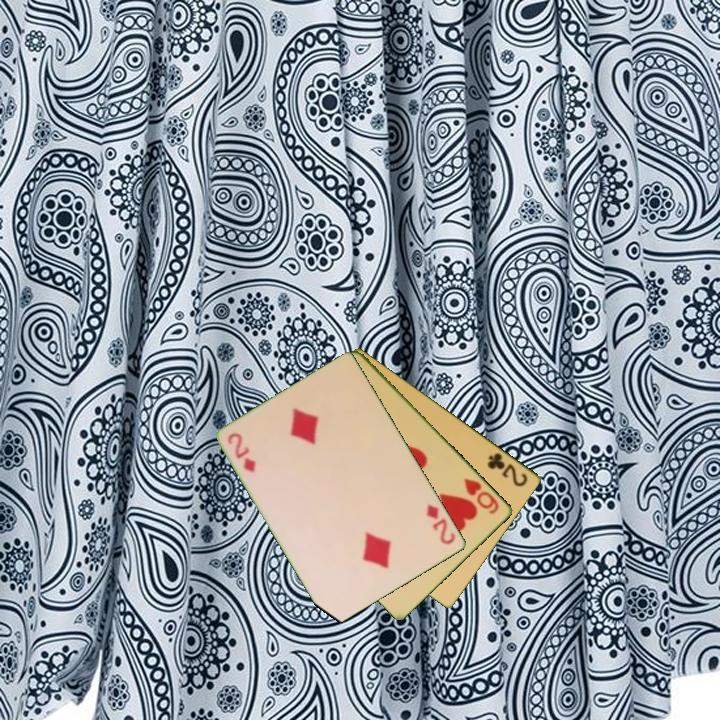2c: (484, 449, 531, 490)
2d: (423, 501, 459, 548), (224, 429, 259, 475)
6h: (461, 475, 502, 517)
